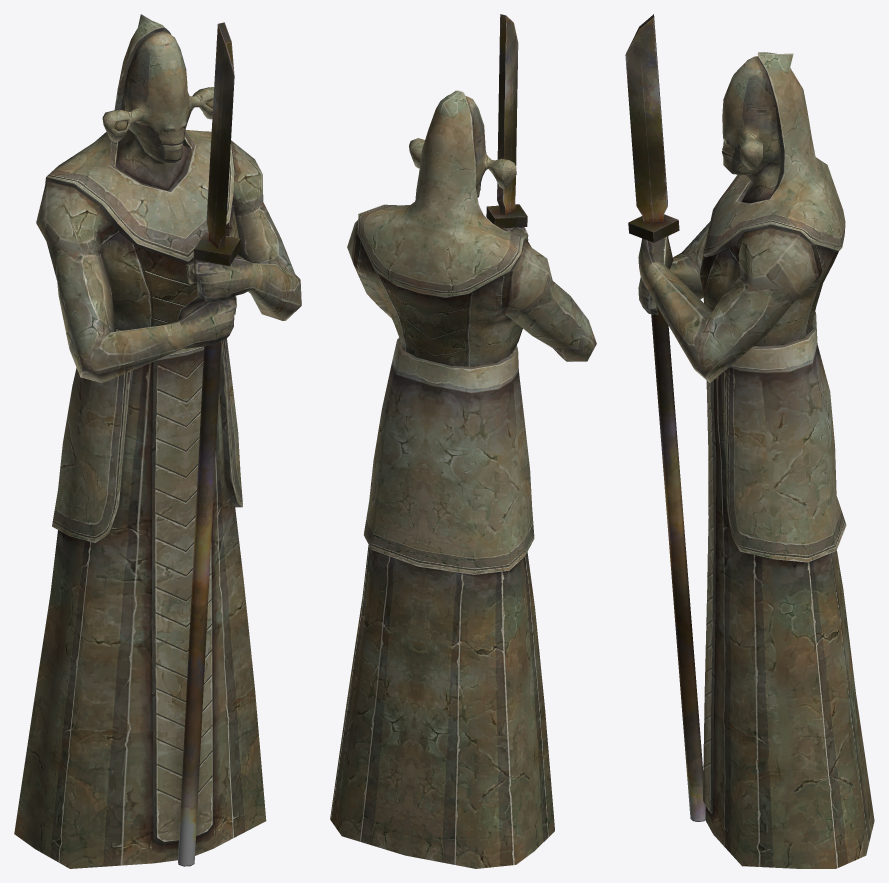
File: bel_arch_rakata_statue.glb
3 views of the same model, side by side, from view 1: azimuth 30°, elevation 25°; view 2: azimuth 150°, elevation 25°; view 3: azimuth 270°, elevation 25° (orthographic). The views are drawn at different scales.
Parts seen in each view (by area): view 1: bel_arch_rakata_statue; view 2: bel_arch_rakata_statue; view 3: bel_arch_rakata_statue.
Boxes of the visible parts, x1,y1,x2,y2 form: bel_arch_rakata_statue: [14, 14, 301, 868]; bel_arch_rakata_statue: [330, 14, 596, 868]; bel_arch_rakata_statue: [625, 14, 874, 868].
Bounding box in the file's own units: 0.3204 × 1.14 × 0.3195.
Materials: 1 (1 with a texture image).
